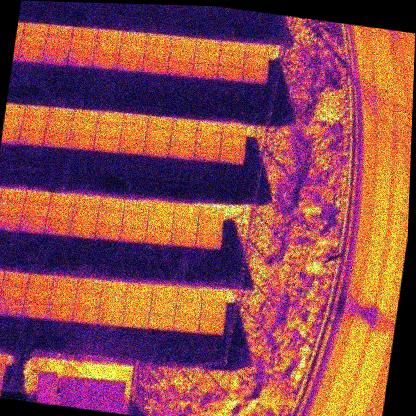Hotspot: (98, 292, 126, 312), (76, 277, 103, 296), (102, 279, 128, 298), (47, 303, 73, 322), (94, 39, 121, 57), (145, 31, 173, 48), (47, 23, 73, 40), (219, 149, 245, 164)
Normal: (73, 291, 101, 311), (197, 317, 225, 337), (122, 309, 150, 329), (66, 49, 94, 69), (126, 281, 153, 301), (94, 121, 122, 140), (169, 33, 197, 52), (71, 24, 99, 43), (19, 33, 47, 52), (91, 51, 119, 70), (171, 116, 198, 135), (96, 108, 123, 127), (148, 200, 175, 219), (98, 195, 125, 214), (73, 193, 100, 212), (49, 190, 76, 209), (24, 188, 51, 207), (22, 202, 49, 221), (151, 284, 178, 303), (51, 274, 78, 293), (26, 272, 53, 291), (2, 269, 29, 288), (174, 300, 201, 319), (149, 298, 176, 317), (173, 314, 200, 333), (148, 312, 175, 331), (72, 306, 99, 325), (194, 36, 221, 55), (144, 44, 171, 63), (22, 103, 50, 121), (45, 117, 73, 135), (17, 129, 45, 147), (141, 57, 169, 75), (196, 118, 222, 137), (123, 198, 149, 217), (0, 186, 26, 205), (120, 225, 146, 244), (125, 296, 151, 315), (0, 284, 26, 303), (192, 61, 218, 80), (121, 111, 148, 129), (71, 107, 98, 125), (194, 132, 221, 150), (169, 129, 196, 147), (120, 124, 147, 142), (70, 120, 97, 138), (20, 116, 47, 134), (168, 143, 195, 161), (93, 135, 120, 153), (121, 212, 148, 230), (194, 233, 221, 251), (94, 223, 121, 241), (69, 221, 96, 239), (19, 217, 46, 235), (176, 286, 203, 304), (49, 290, 76, 308), (24, 287, 51, 305), (22, 301, 49, 319), (219, 39, 246, 57), (121, 29, 148, 47), (96, 27, 123, 45), (218, 52, 245, 70), (119, 41, 146, 59), (69, 37, 96, 55), (216, 64, 243, 82), (166, 59, 193, 77), (116, 54, 143, 72), (42, 48, 69, 66), (47, 105, 75, 122), (16, 47, 44, 64), (146, 114, 172, 132), (144, 128, 170, 146), (143, 141, 169, 159), (43, 130, 69, 148), (173, 202, 199, 220), (172, 216, 198, 234), (147, 214, 173, 232), (72, 207, 98, 225), (47, 205, 73, 223), (171, 230, 197, 248), (201, 288, 227, 306), (200, 303, 226, 321), (97, 309, 123, 327), (244, 41, 270, 59), (242, 67, 268, 85), (118, 138, 145, 155), (68, 134, 95, 151), (196, 219, 223, 236), (145, 228, 172, 245), (22, 21, 49, 38), (242, 56, 269, 73), (198, 205, 223, 223), (194, 146, 220, 163), (97, 210, 123, 227), (45, 219, 71, 236), (0, 213, 22, 233), (0, 298, 23, 317), (168, 48, 195, 64), (194, 49, 219, 66), (221, 122, 247, 138), (0, 200, 23, 218), (220, 135, 245, 151), (45, 36, 70, 52), (0, 351, 6, 370), (0, 367, 3, 385), (0, 382, 2, 397)
